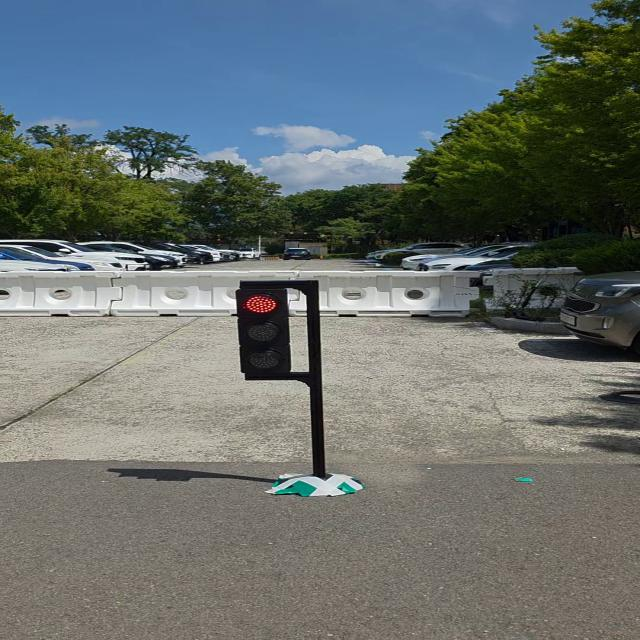red: (231, 286, 298, 376)
